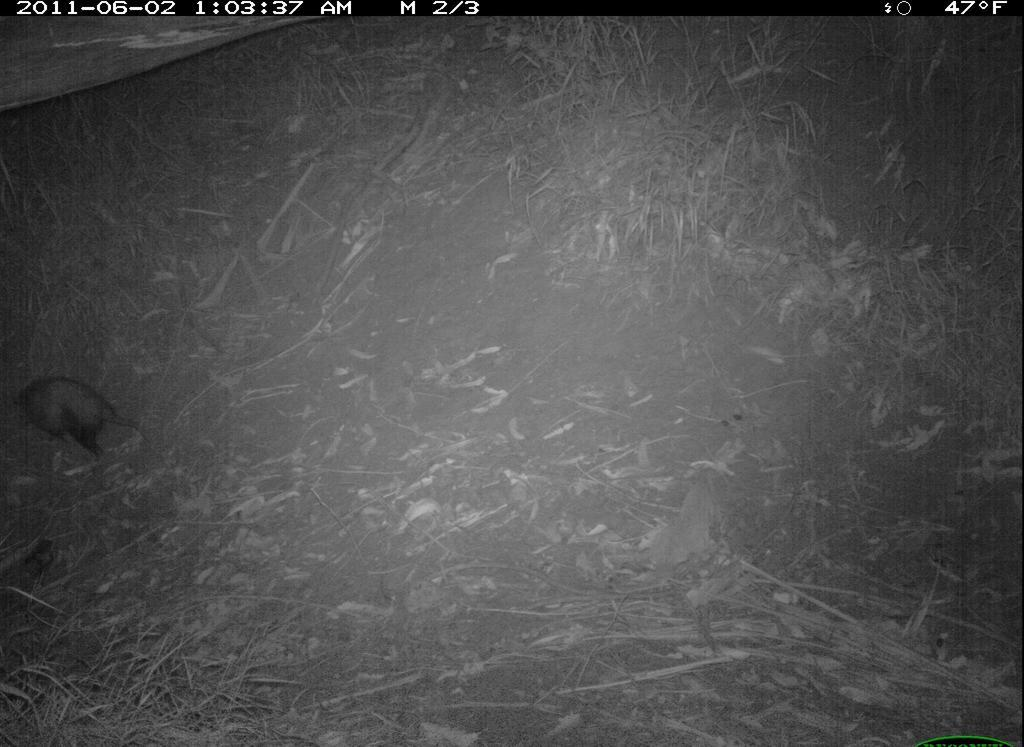opossum: (8, 365, 164, 464)
